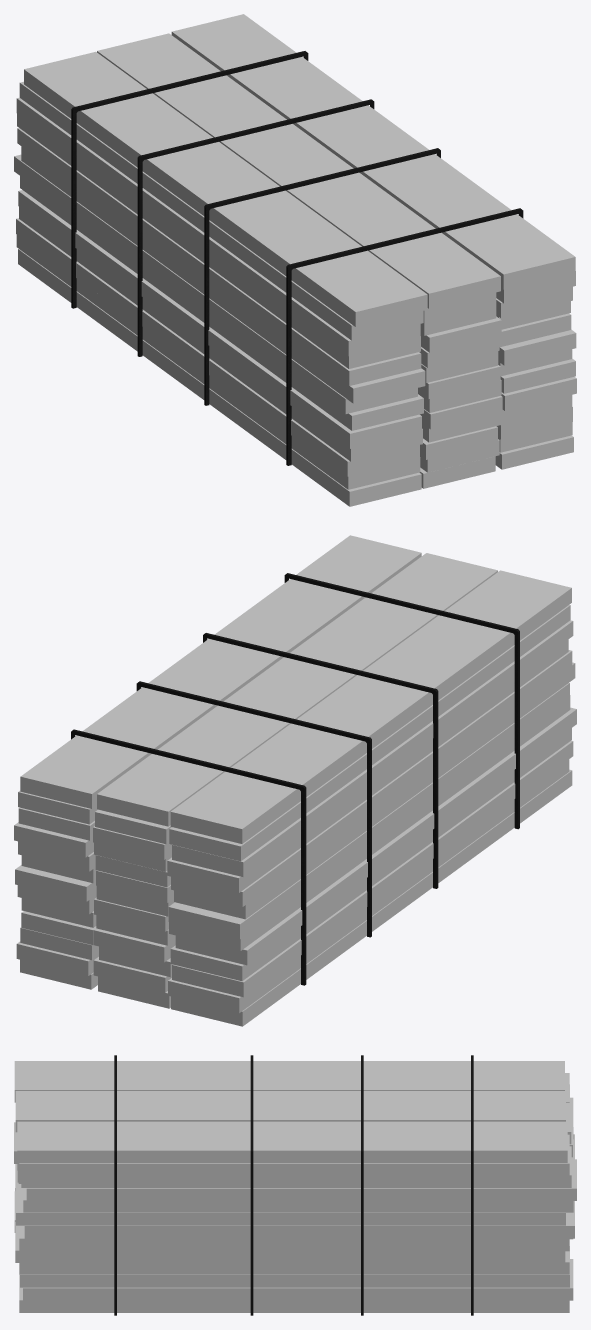
The model's file is MDL_PilhaDeTabua.fbx.
The picture shows the model from 3 angles, top to bottom: view 1: azimuth 30°, elevation 25°; view 2: azimuth 150°, elevation 25°; view 3: azimuth 270°, elevation 25°; orthographic projection. The views are drawn at different scales.
Parts seen in each view (by area): view 1: Pilha; view 2: Pilha; view 3: Pilha.
Boxes of the visible parts, x1,y1,x2,y2 form: Pilha: [14, 14, 576, 506]; Pilha: [14, 535, 576, 1026]; Pilha: [14, 1055, 576, 1315].
Bounding box in the file's own units: 1.63 × 1.32 × 4.08.
